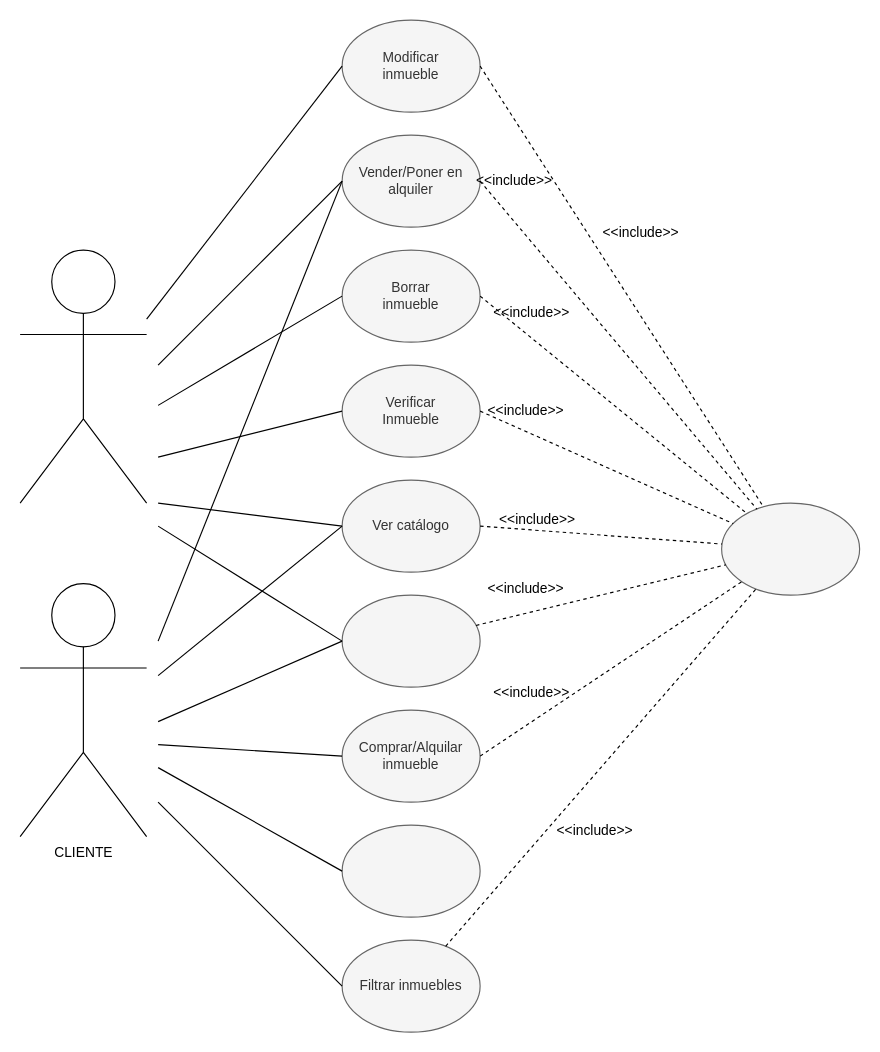
Image size: 880x1052. Some labels were removed from this diagram. Each missing label, with the box of its shape:
ADMINISTRADOR: (19, 249, 147, 503)
Cerrar sesion: (341, 594, 480, 687)
Loguearse: (720, 502, 860, 595)
Registrarse: (341, 824, 480, 917)
